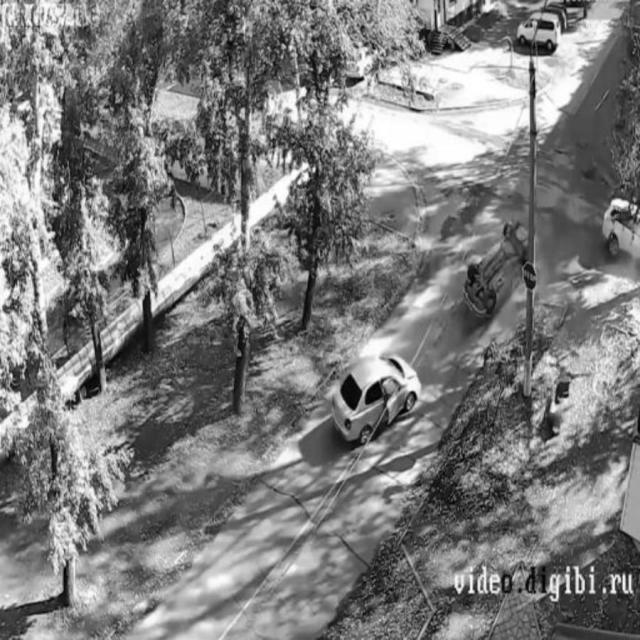vehicle: (338, 355, 421, 428), (467, 223, 533, 314), (601, 187, 640, 264), (513, 17, 561, 49)
